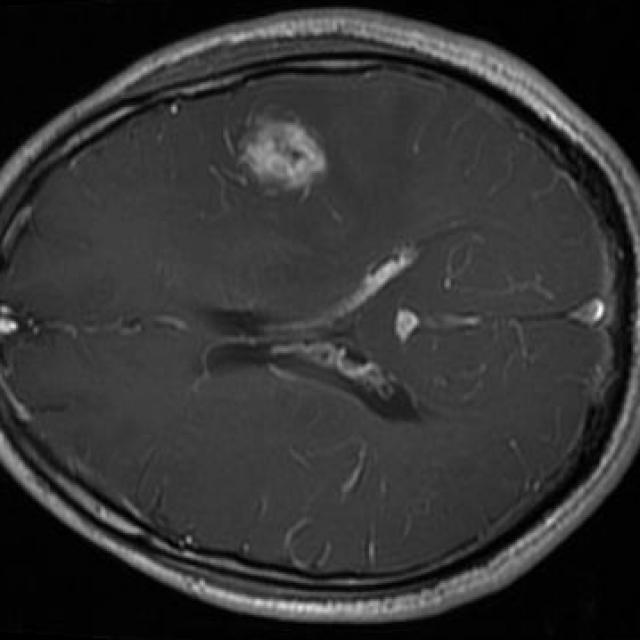glioma: (239, 119, 326, 203)
